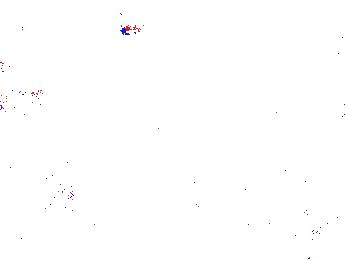glassfish: (1, 86, 46, 110)
red belly glassfish: (118, 17, 153, 37), (1, 55, 31, 76), (12, 24, 27, 46)
redtail glassfish: (87, 1, 129, 15)
